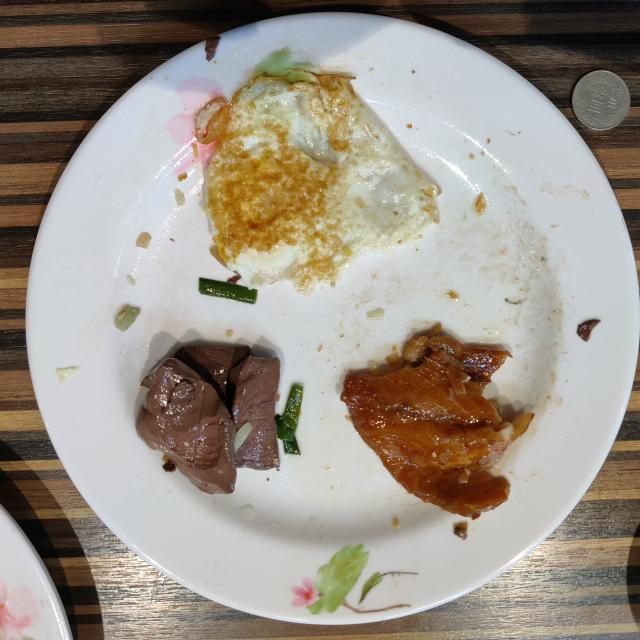Kabayaki sea bream fillet: (341, 324, 534, 519)
coin: (572, 70, 630, 130)
pig blood curd: (136, 345, 280, 494)
